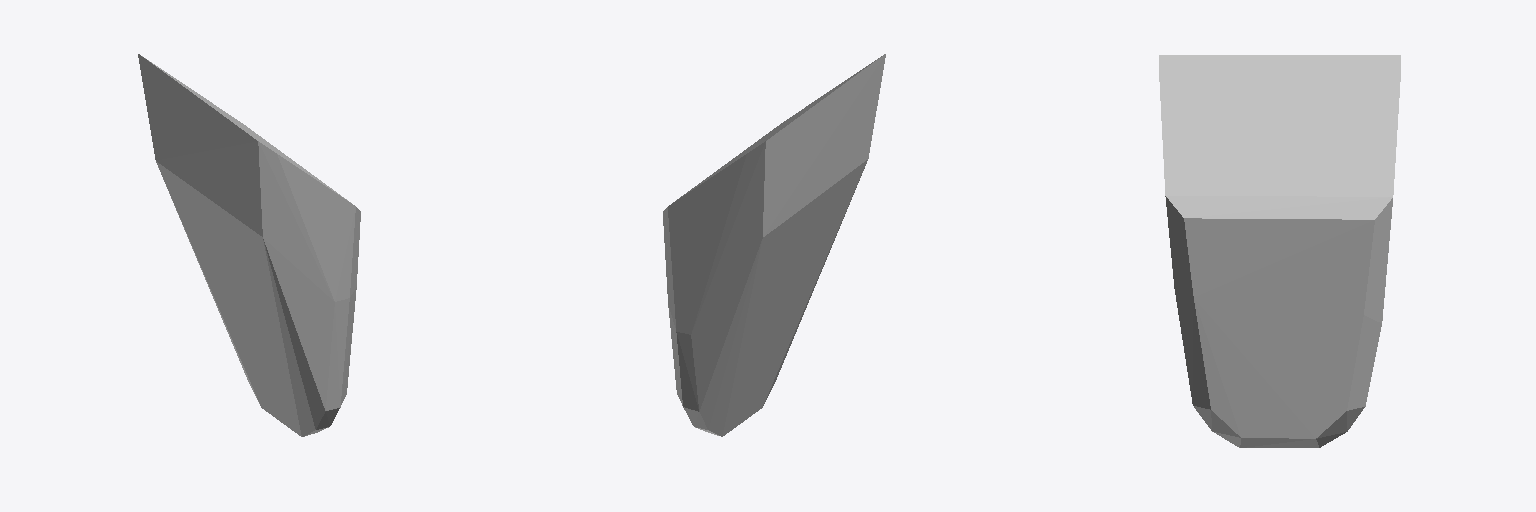
Rendered from solo_12_base_collision_6.obj.
3 renders of one model, left to right at view 1: azimuth 30°, elevation 25°; view 2: azimuth 150°, elevation 25°; view 3: azimuth 270°, elevation 25°, orthographic.
Bounding box in the file's own units: 0.0222 × 0.0633 × 0.04.